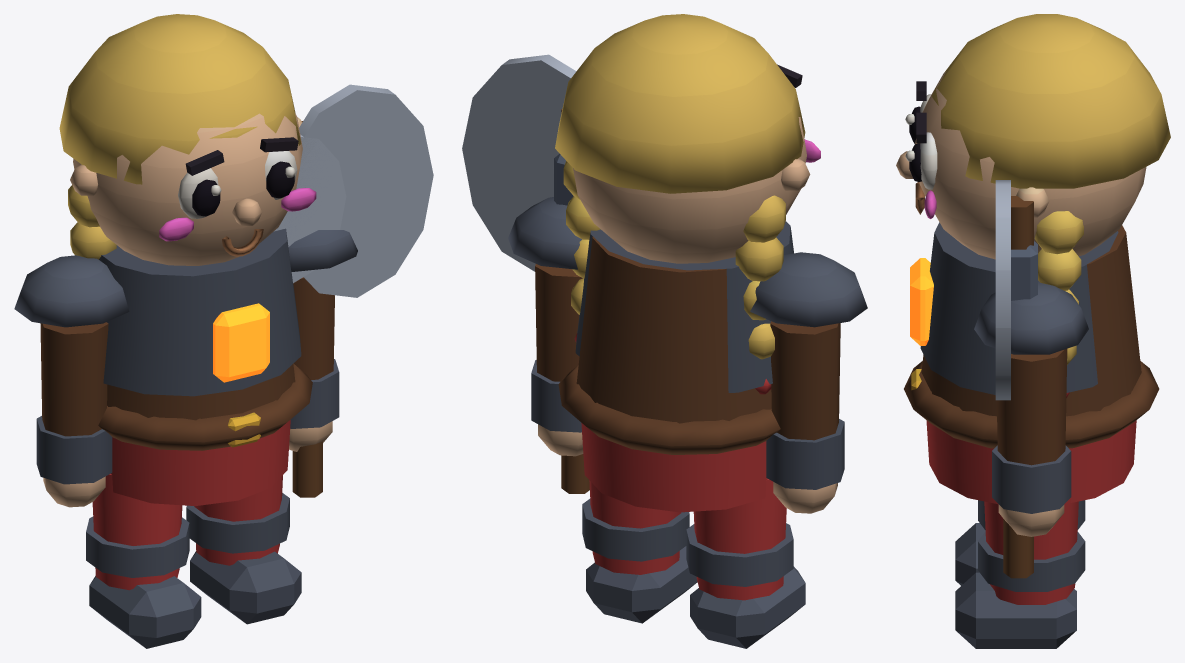
Rendered from hero_brunhild.glb.
3 renders of one model, left to right at view 1: azimuth 30°, elevation 25°; view 2: azimuth 150°, elevation 25°; view 3: azimuth 270°, elevation 25°, orthographic. The views are drawn at different scales.
Parts seen in each view (by area): view 1: body_t0_palette, armr_t0_palette, arml_t0_palette, legl_t0_palette, legr_t0_palette, body_t0_fire; view 2: body_t0_palette, armr_t0_palette, arml_t0_palette, legl_t0_palette, legr_t0_palette; view 3: body_t0_palette, armr_t0_palette, legr_t0_palette, body_t0_fire, legl_t0_palette.
Part boxes in pixels (left/top/right/bottom): body_t0_palette: left=59, top=14, right=316, bottom=505; armr_t0_palette: left=274, top=84, right=433, bottom=497; arml_t0_palette: left=14, top=255, right=129, bottom=507; legl_t0_palette: left=86, top=474, right=201, bottom=648; legr_t0_palette: left=186, top=475, right=301, bottom=624; body_t0_fire: left=213, top=303, right=269, bottom=382; body_t0_palette: left=555, top=14, right=820, bottom=512; armr_t0_palette: left=462, top=54, right=589, bottom=493; arml_t0_palette: left=750, top=252, right=867, bottom=513; legl_t0_palette: left=686, top=479, right=805, bottom=648; legr_t0_palette: left=582, top=480, right=697, bottom=623; body_t0_palette: left=896, top=14, right=1170, bottom=504; armr_t0_palette: left=974, top=180, right=1088, bottom=578; legr_t0_palette: left=955, top=501, right=1085, bottom=648; body_t0_fire: left=910, top=258, right=933, bottom=345; legl_t0_palette: left=955, top=500, right=1085, bottom=585.
Size of the model in its own units: 0.3601 by 0.509 by 0.215.
